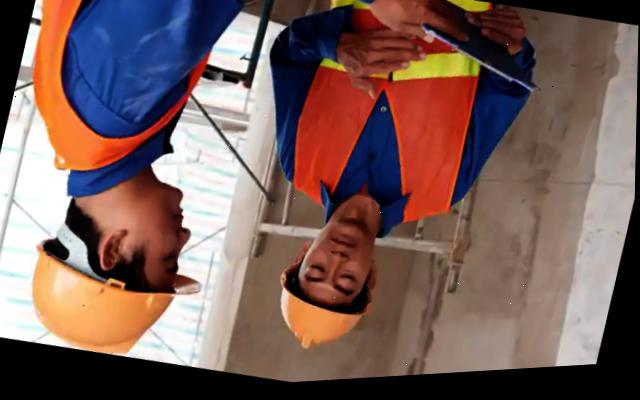helmet: (11, 244, 202, 371), (244, 273, 403, 374)
vest: (276, 0, 513, 252), (0, 0, 237, 200)
